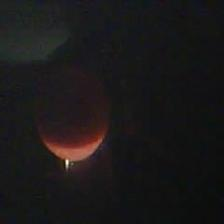fertile: (30, 61, 113, 166)
